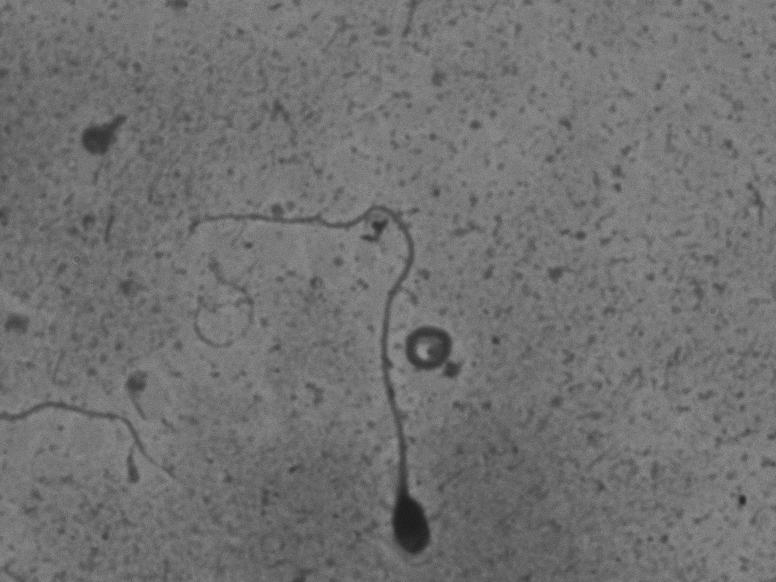Abnormal: (180, 190, 439, 564)
